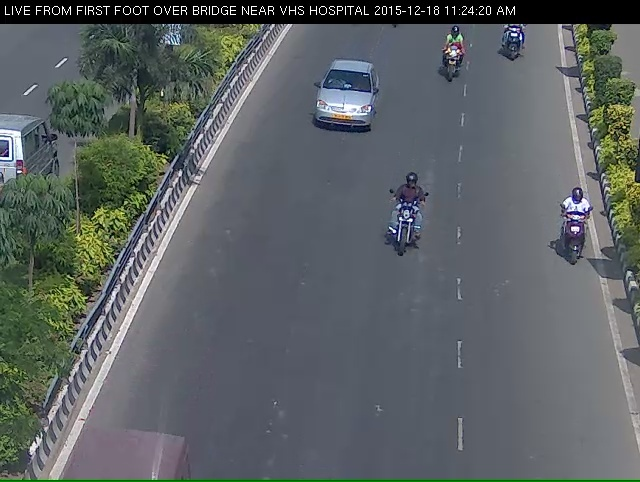Car: (307, 54, 376, 148)
Person: (552, 193, 599, 284), (381, 184, 432, 267), (439, 29, 468, 88), (495, 22, 533, 64)
